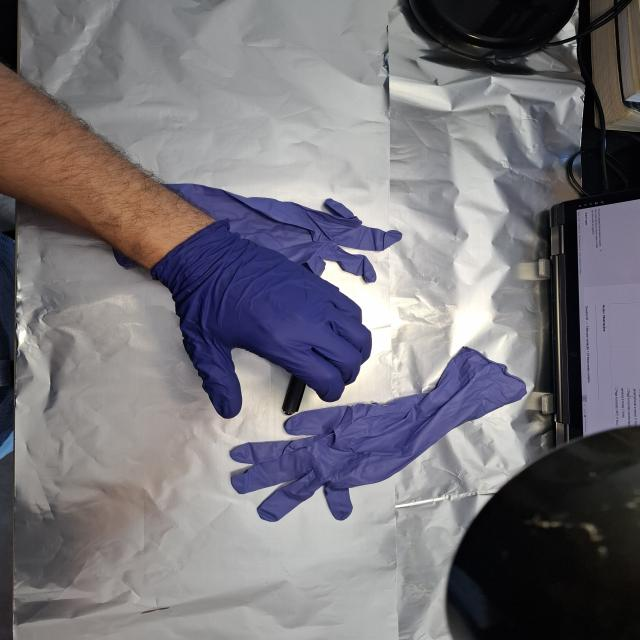glove_on: (155, 217, 374, 421)
